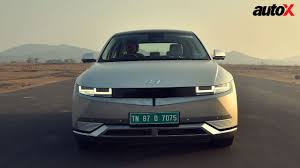Honda Ioniq: (50, 20, 260, 160)
